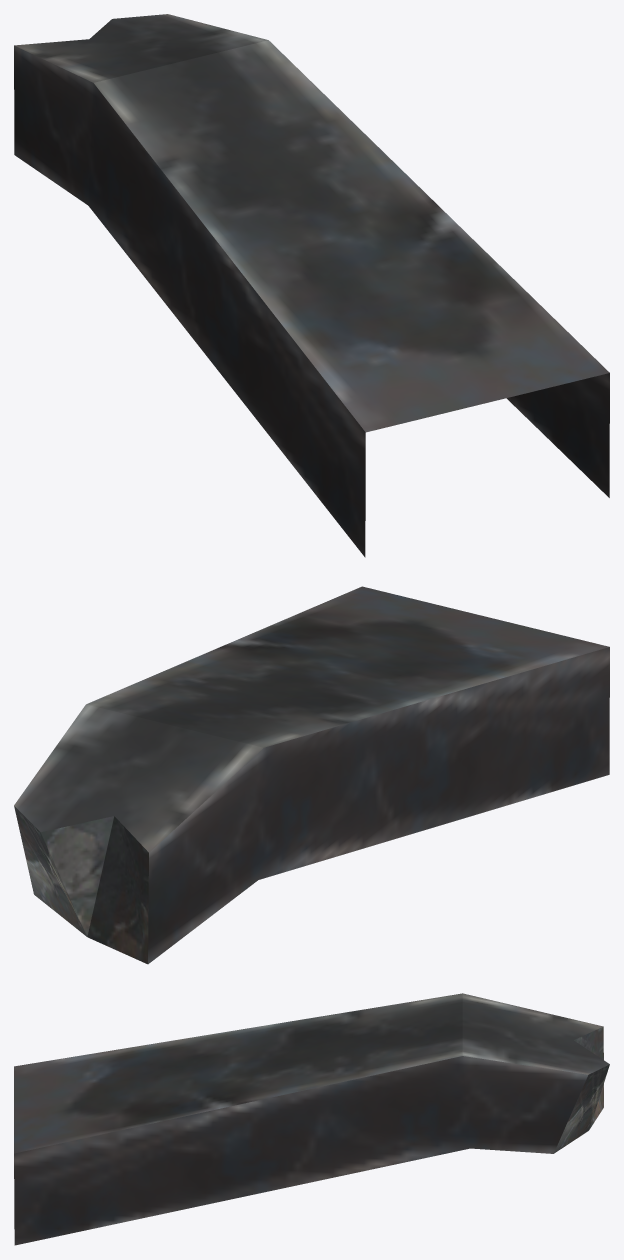
File: A_shiqiang02.fbx
3 views of the same model, one above another, from view 1: azimuth 30°, elevation 25°; view 2: azimuth 150°, elevation 25°; view 3: azimuth 270°, elevation 25° (orthographic). The views are drawn at different scales.
Visible parts, largest first — view 1: A_tiezhui02; view 2: A_tiezhui02; view 3: A_tiezhui02.
Part boxes in pixels (x1,y1,x2,y2): A_tiezhui02: [14, 14, 609, 557]; A_tiezhui02: [14, 586, 609, 964]; A_tiezhui02: [14, 993, 609, 1245].
Size of the model in its own units: 26.86 by 25.48 by 77.61.
